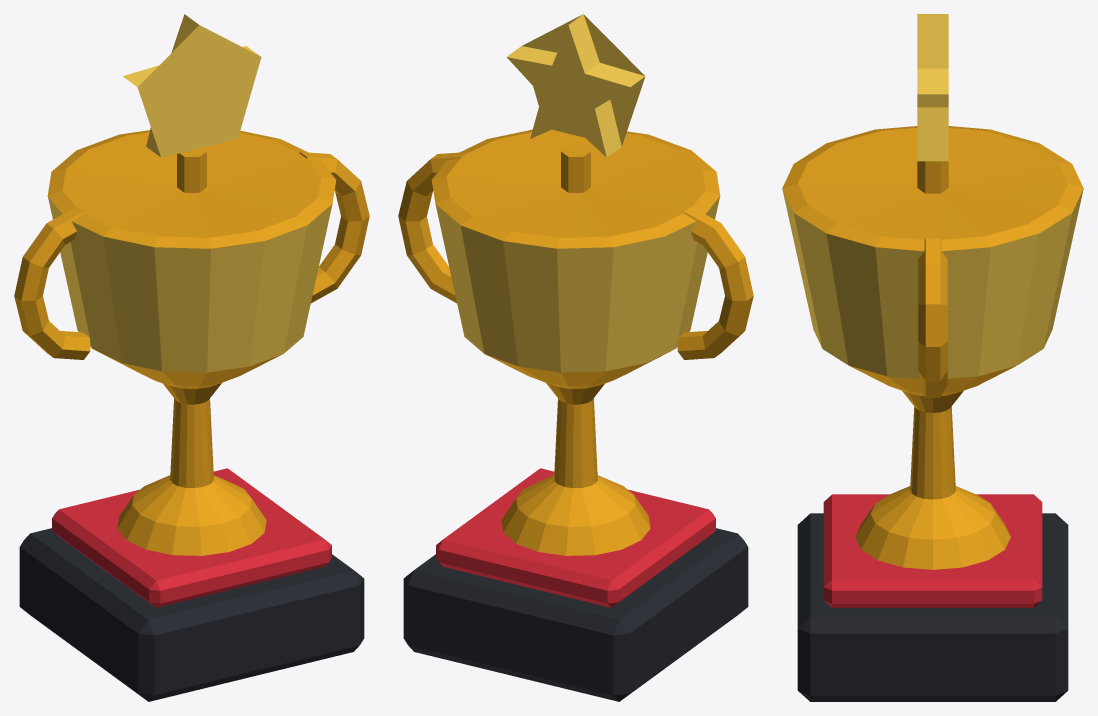
The model's file is Trophy.fbx.
The picture shows the model from 3 angles, left to right: view 1: azimuth 30°, elevation 25°; view 2: azimuth 150°, elevation 25°; view 3: azimuth 270°, elevation 25°; orthographic projection. The views are drawn at different scales.
Parts seen in each view (by area): view 1: Trophy; view 2: Trophy; view 3: Trophy.
Boxes of the visible parts, <box> form: Trophy: <box>14,14,369,701</box>; Trophy: <box>398,14,753,701</box>; Trophy: <box>782,14,1083,701</box>.
Bounding box in the file's own units: 4.01 × 6.75 × 2.9.
1 material, 1 textured.
